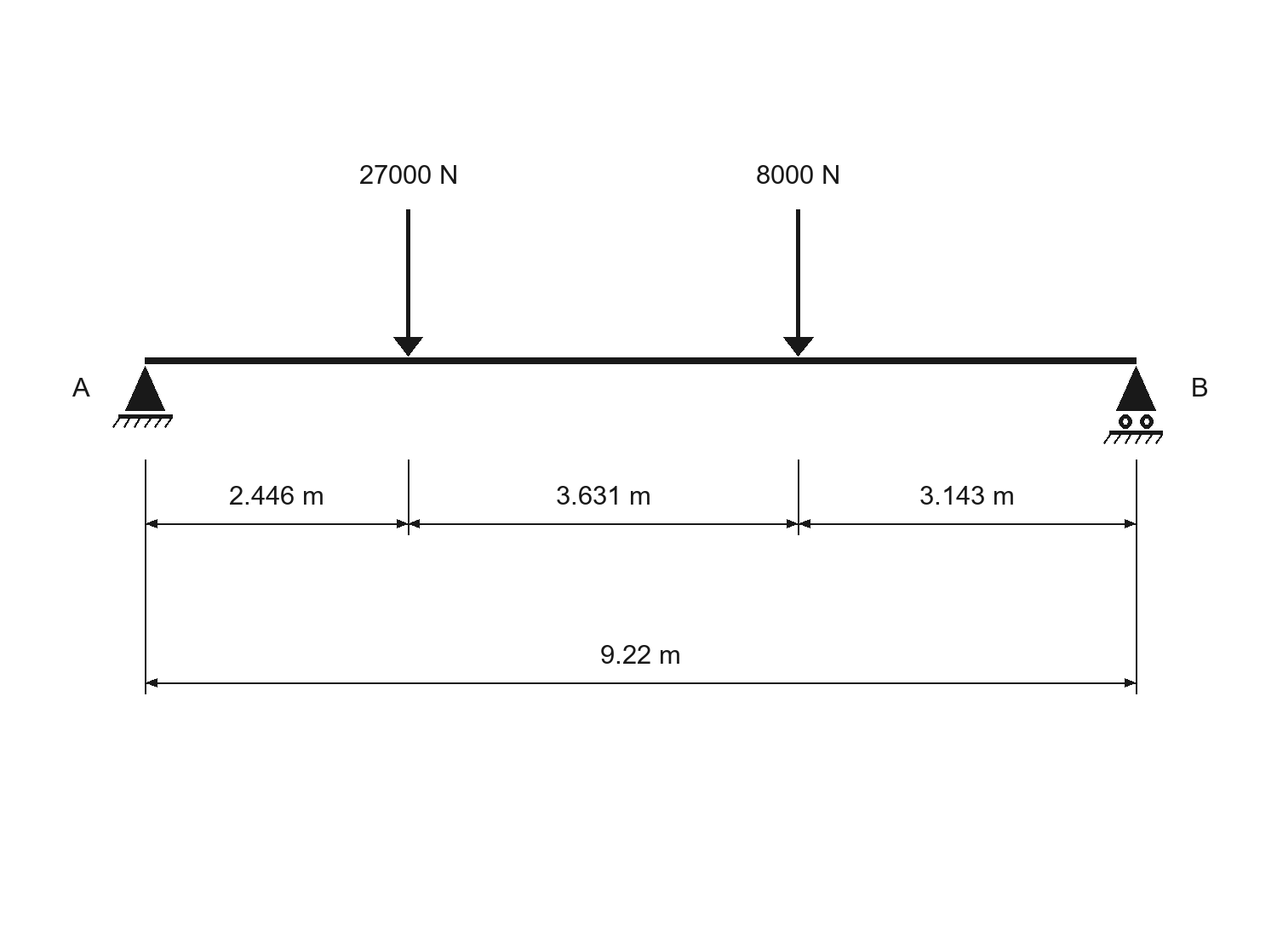pin_support: (112, 366, 173, 428)
point_load: (783, 209, 814, 357), (393, 209, 423, 357)
roller_support: (1103, 366, 1163, 444)
